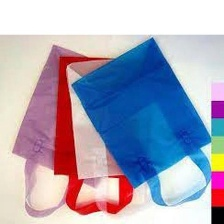plastic_bag: (69, 35, 218, 209), (6, 42, 113, 222), (64, 55, 161, 224), (54, 51, 145, 215)
